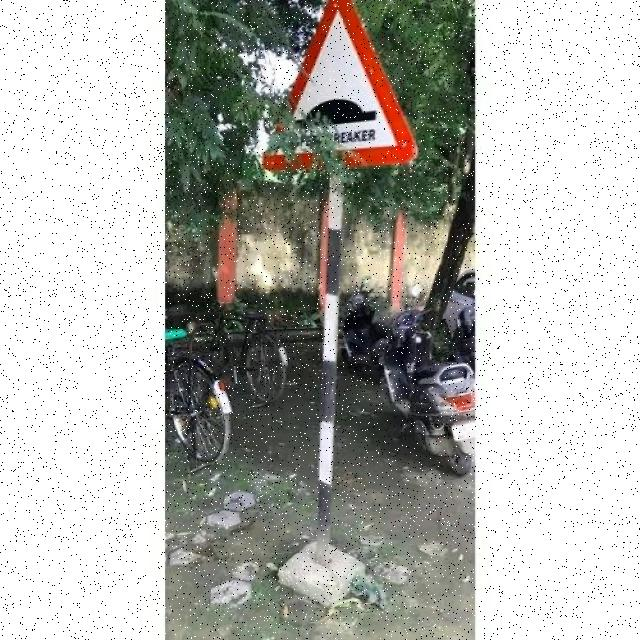Bump: (257, 0, 418, 172)
